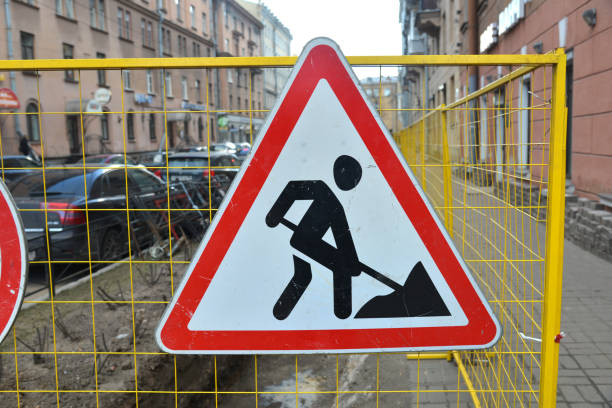yol_calismasi_levha: (157, 34, 504, 346)
